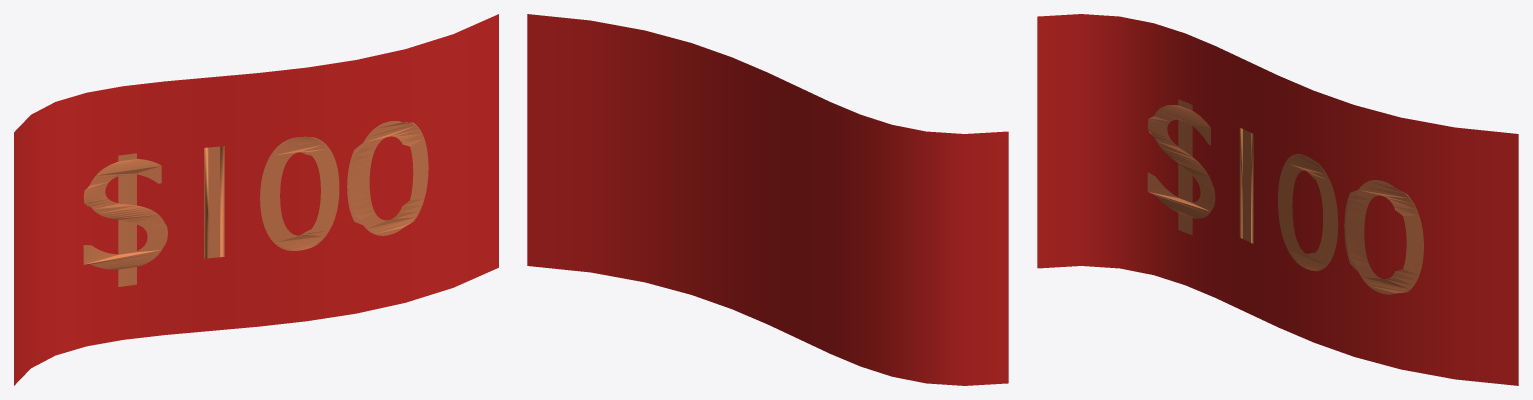
3 renders of one model, left to right at view 1: azimuth 30°, elevation 25°; view 2: azimuth 150°, elevation 25°; view 3: azimuth 330°, elevation 25°, orthographic.
Visible parts, largest first — view 1: BézierCurve, Text; view 2: BézierCurve; view 3: BézierCurve, Text.
Part boxes in pixels (box(x1,y1,x2,y2)): BézierCurve: box(14, 14, 498, 385); Text: box(83, 121, 428, 286); BézierCurve: box(527, 14, 1008, 385); BézierCurve: box(1037, 14, 1518, 385); Text: box(1147, 99, 1423, 294).
Bounding box in the file's own units: 200 × 100 × 26.
